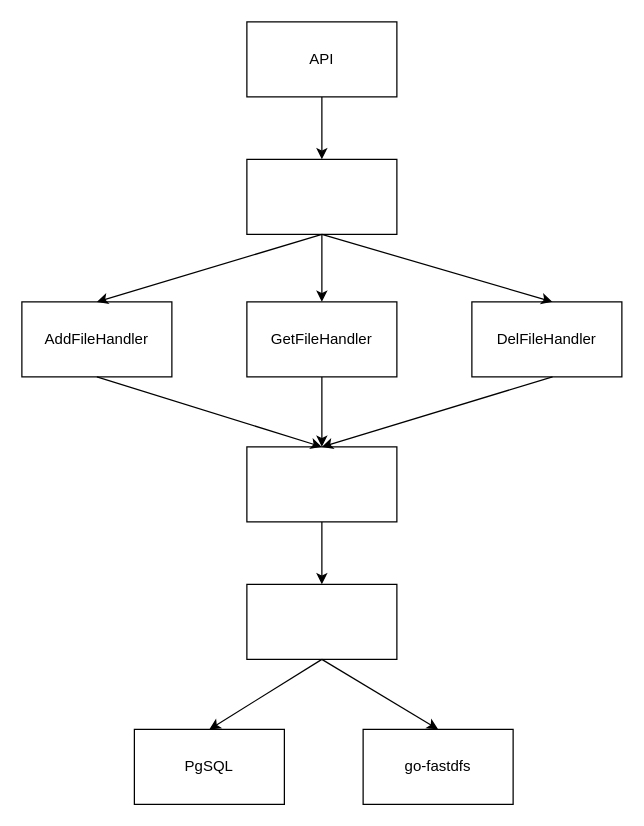
Image size: 644x826. Some labels were removed from this diagram. The centre of each missing label's shape, as x and y in pixels:
"resources" belongs at [321,621].
"RPC" belongs at [321,196].
"service/ability" belongs at [321,484].
